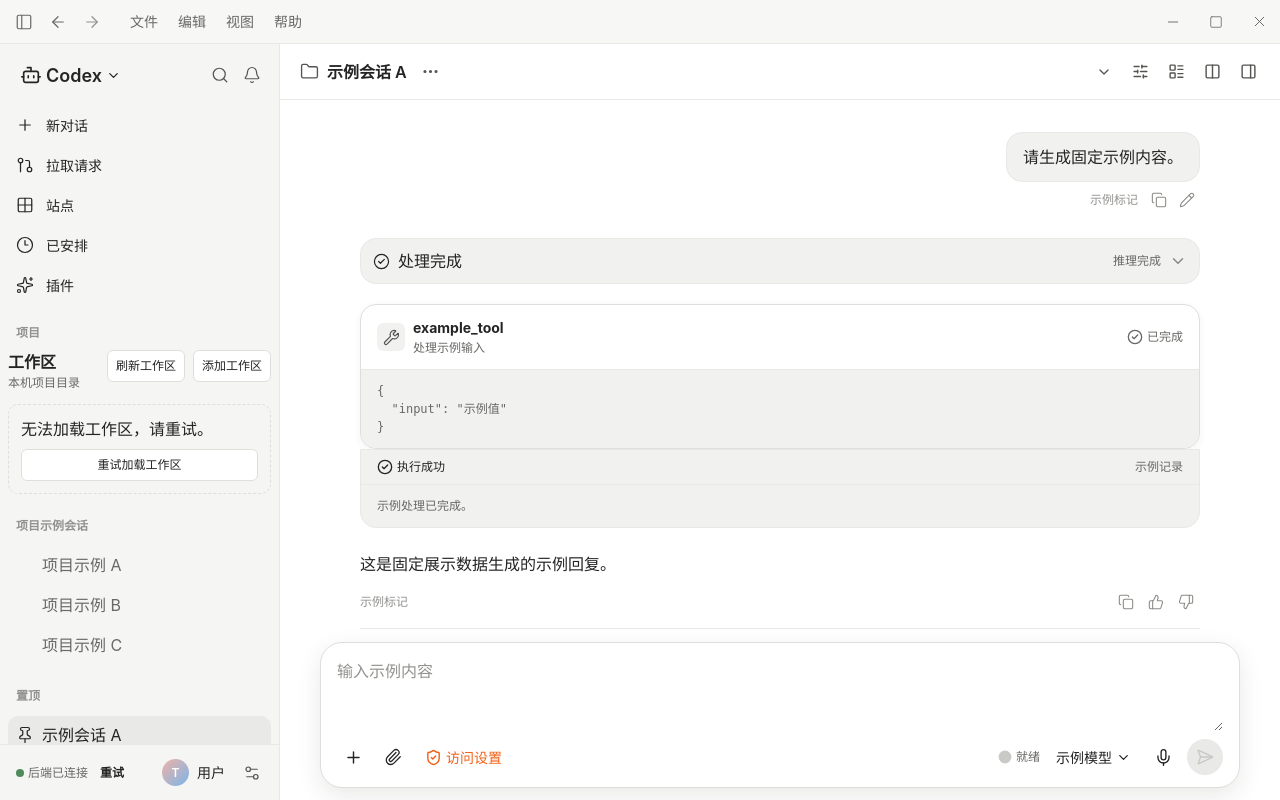
Test case: App workspace integration › keeps M01/M02 controls available when Workspace Collection fails and allows an explicit refresh
Expected: the message "无法加载工作区，请重试。 重试加载工作区" is shown, [8, 404, 271, 494]
Click the button named "更多会话选项" at (431, 72), box [415, 56, 447, 88]
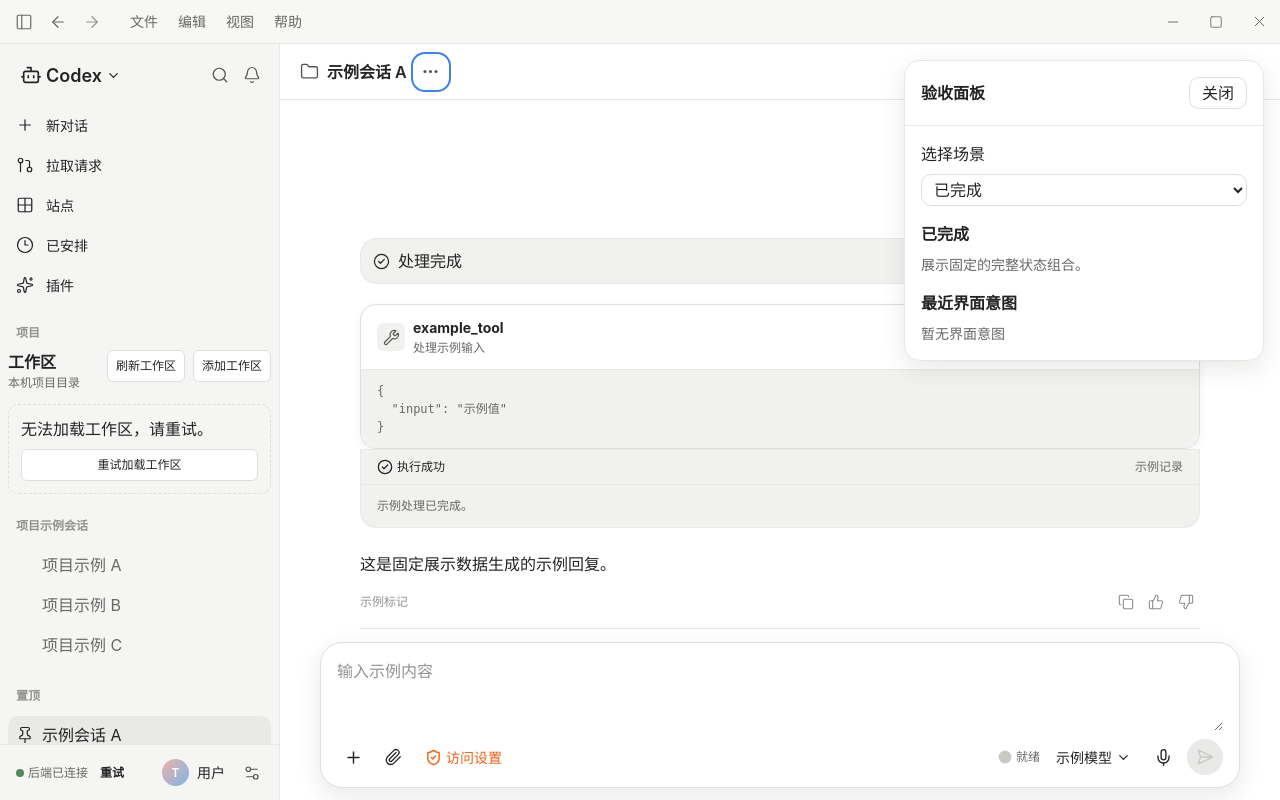
Now the dialog "验收面板" is shown, box [904, 60, 1264, 361]
Click the button named "切换侧边栏" at (24, 22), box [8, 6, 40, 36]
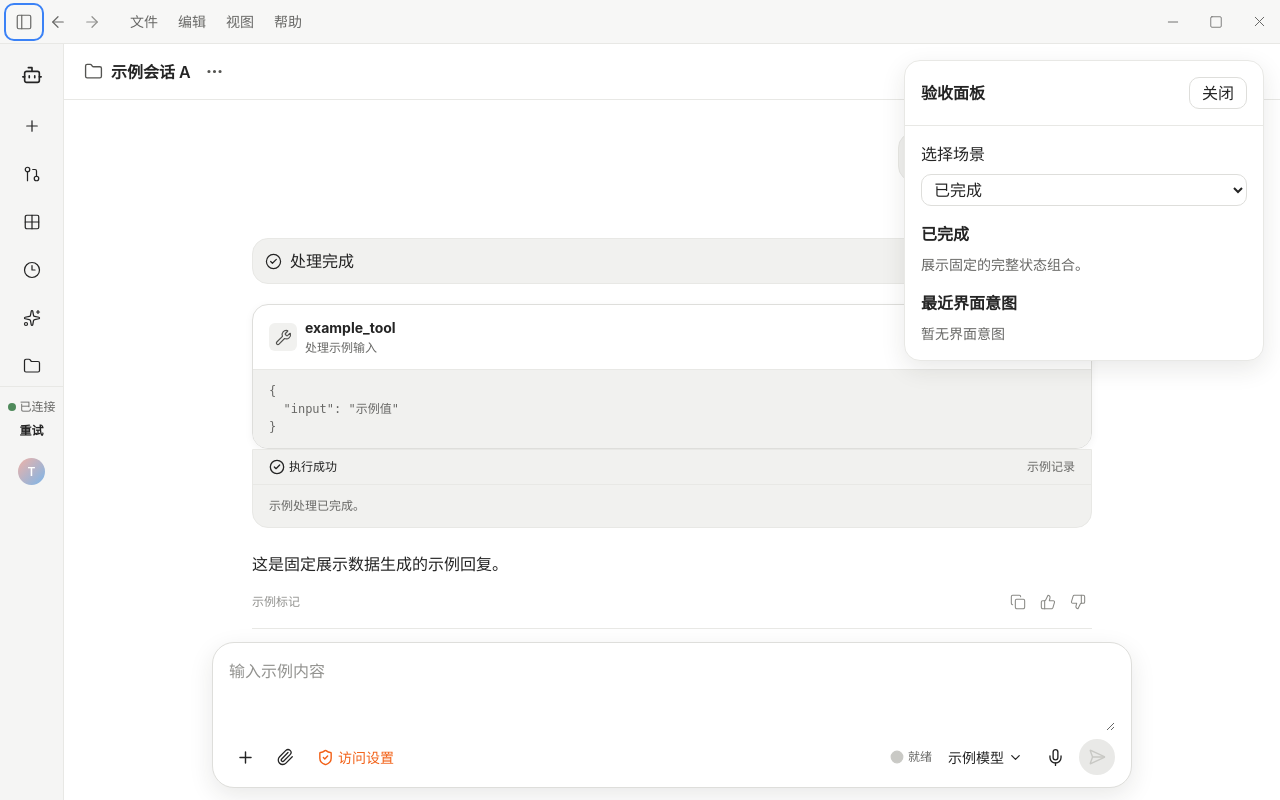
Now the element named "侧边栏" has attribute data-collapsed="true", box [0, 44, 64, 799]
Click the button named "切换侧边栏" at (24, 22), box [8, 6, 40, 36]
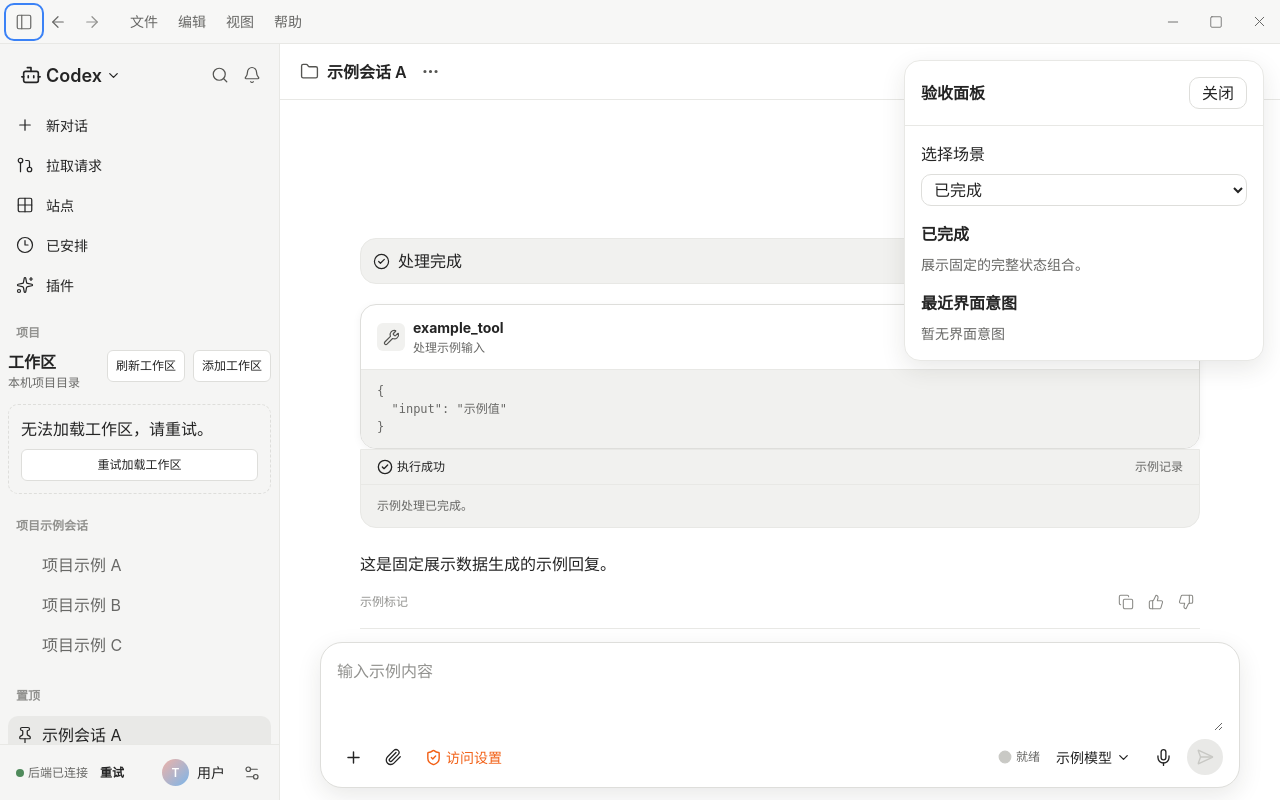
Click the button "重试加载工作区" at (140, 465), box [21, 449, 258, 481]
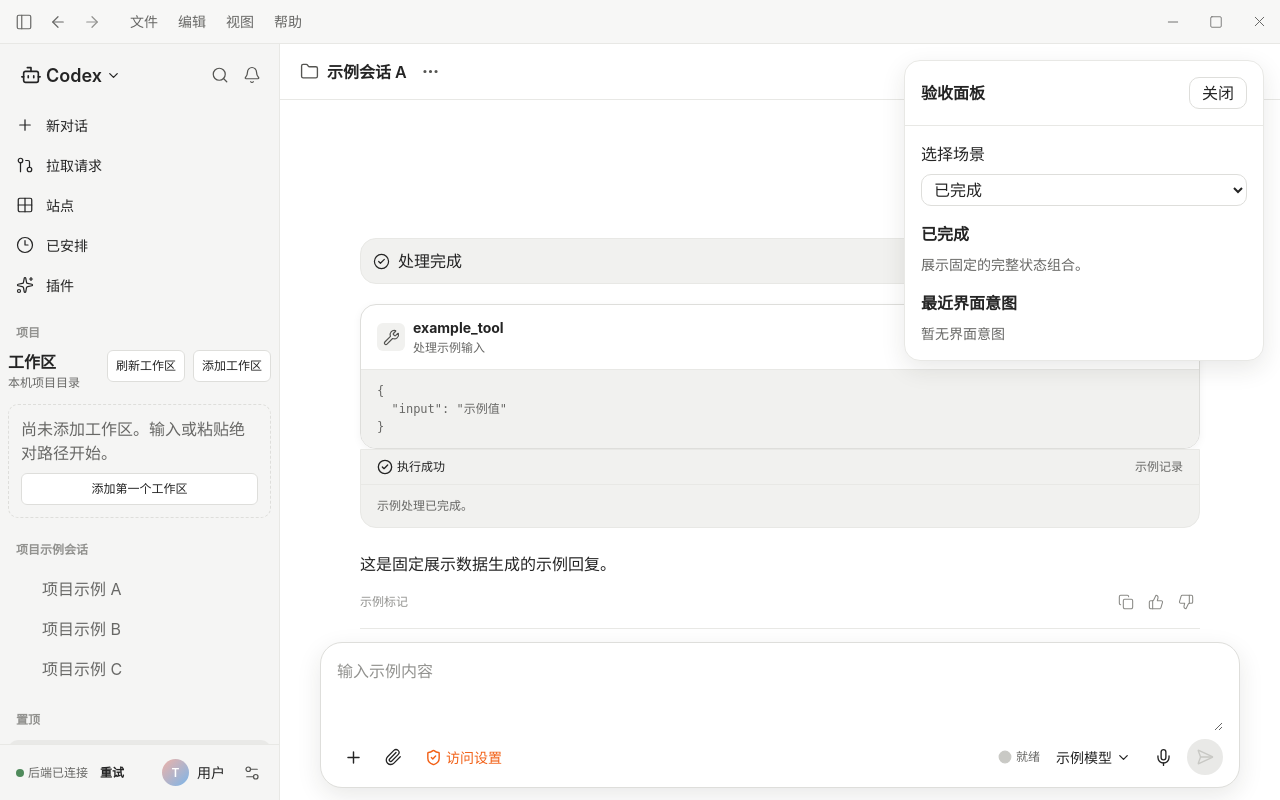
Now the text "尚未添加工作区。输入或粘贴绝对路径开始。" is shown, box [21, 417, 258, 465]
